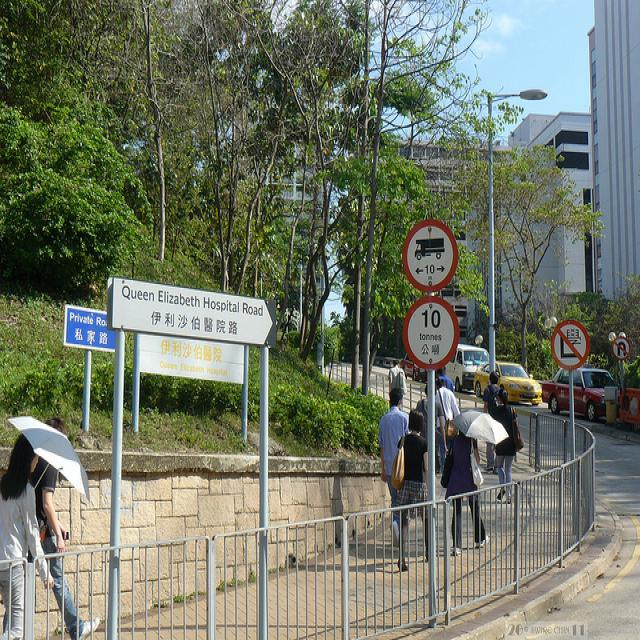Vehicle: (474, 361, 544, 406), (445, 343, 489, 392), (400, 352, 446, 382), (414, 238, 446, 261)
